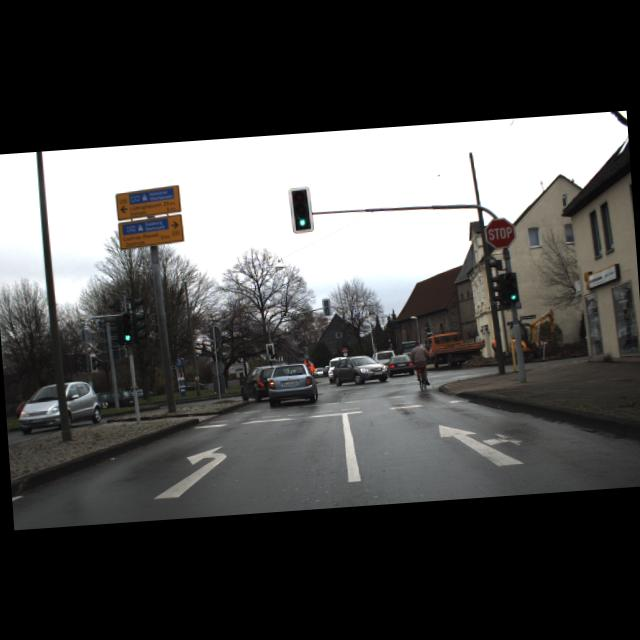other: (483, 216, 516, 249)
